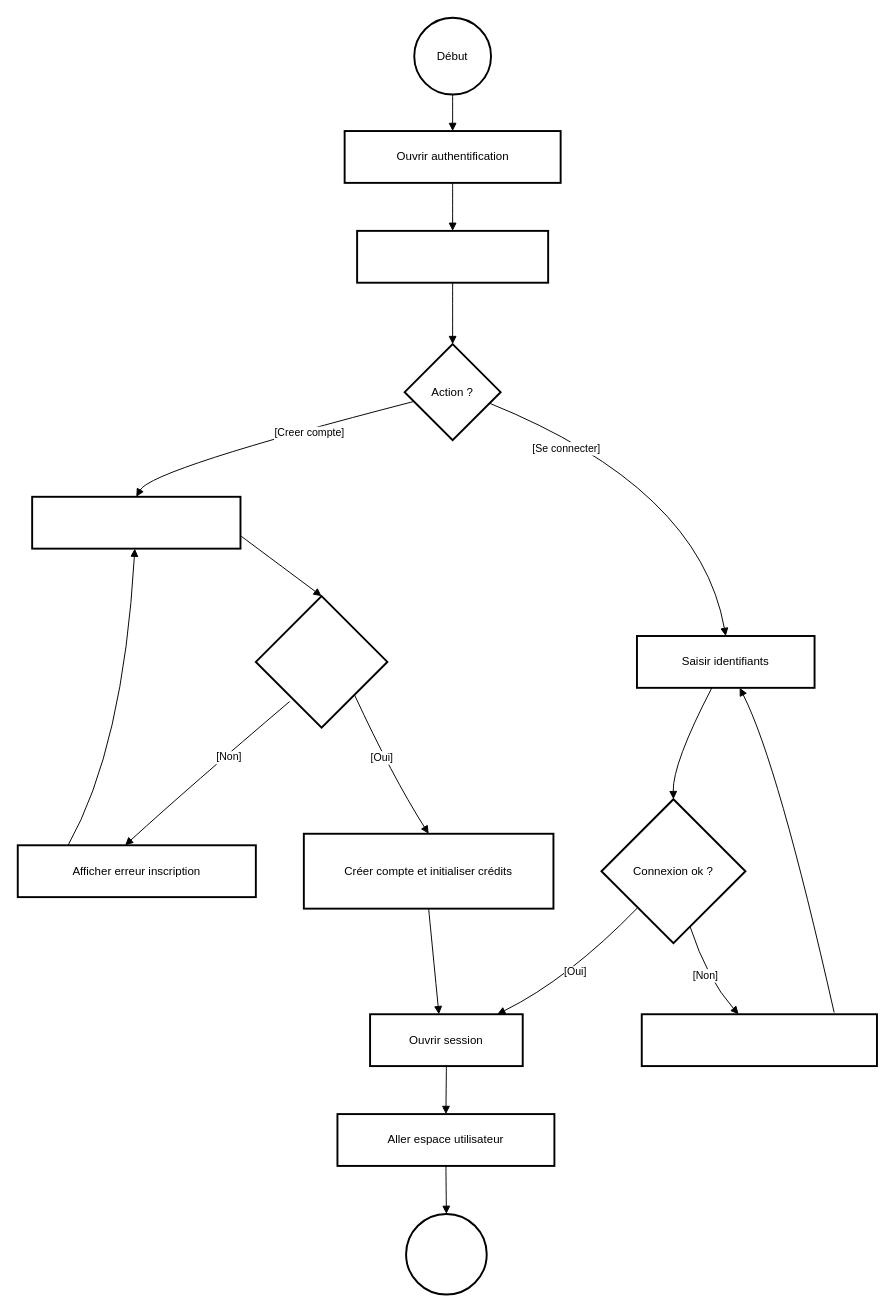
The diagram is 894 pixels wide and 1311 high, and some of its shapes have lost their labels. The box of each missing label's shape, as (x1, y1, x2, y2) in pixels:
Afficher erreur connexion: (640, 1013, 877, 1067)
Création ok ?: (254, 595, 388, 728)
Fin: (405, 1212, 487, 1295)
Saisir infos inscription: (31, 495, 241, 549)
Sélectionner action: (356, 229, 549, 283)
